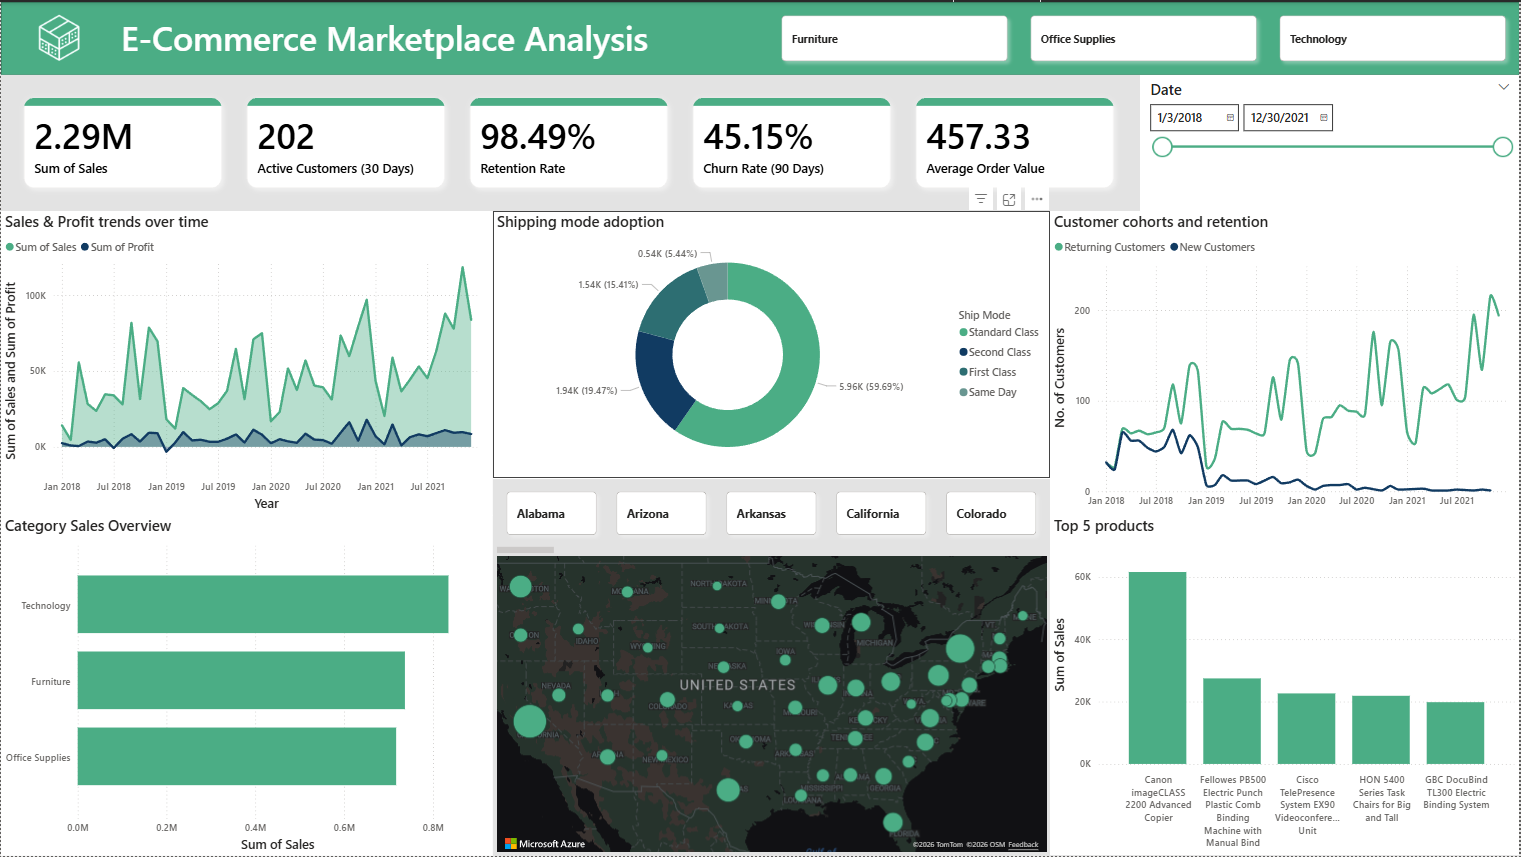

This screenshot's page, from the dashboard's own definition file:
{"tool":"powerbi","page":{"name":"RawMart Analysis","canvas":[1920,1080],"ordinal":0},"visuals":[{"type":"shape","box":[0,0,1920.6,92.5],"z":0},{"type":"image","box":[0,0,146.9,92.5],"z":1000},{"type":"textbox","box":[146.9,10.9,700.5,69.4],"z":2000},{"type":"cardVisual","fields":{"Data":["Sum(sales_clean.Sales)","sales_clean.Active Customers (30 Days)","sales_clean.Retention Rate","sales_clean.Churn Rate","sales_clean.Average Order Value"]},"box":[0,91.9,1440,172.2],"z":3000},{"type":"areaChart","title":"Sales & Profit trends over time","fields":{"Category":["sales_clean.Order Date.Variation.Date Hierarchy.Year","sales_clean.Order Date.Variation.Date Hierarchy.Quarter","sales_clean.Order Date.Variation.Date Hierarchy.Month"],"Y":["Sum(sales_clean.Sales)","Sum(sales_clean.Profit)"]},"box":[0,263.9,621.6,384.9],"z":4000},{"type":"barChart","title":"Category Sales Overview","fields":{"Category":["sales_clean.Category","sales_clean.Sub-Category"],"Y":["Sum(sales_clean.Sales)"]},"box":[0,648.8,621.6,431.2],"z":5000},{"type":"columnChart","title":"Top 5 products","fields":{"Category":["sales_clean.Product Name"],"Y":["Sum(sales_clean.Sales)"]},"box":[1326.2,648.8,594.4,429.8],"z":7000},{"type":"lineChart","title":"Customer cohorts and retention","fields":{"Category":["sales_clean.Order Date.Variation.Date Hierarchy.Year","sales_clean.Order Date.Variation.Date Hierarchy.Quarter","sales_clean.Order Date.Variation.Date Hierarchy.Month"],"Y":["sales_clean.Returning Customers","sales_clean.New Customers"]},"box":[1326.2,263.9,594.4,384.9],"z":8000},{"type":"advancedSlicerVisual","fields":{"Values":["sales_clean.Category"]},"box":[969.8,0,950.8,92.5],"z":9000},{"type":"slicer","fields":{"Values":["sales_clean.Order Date"]},"box":[1440.5,92.5,480.2,171.4],"z":10000},{"type":"azureMap","fields":{"Size":["Sum(sales_clean.Sales)"],"Category":["sales_clean.State"]},"box":[621.6,695.1,704.6,384.9],"z":11000},{"type":"advancedSlicerVisual","fields":{"Values":["sales_clean.State"]},"box":[621.6,602.6,704.6,102],"z":12000},{"type":"donutChart","title":"Shipping mode adoption","fields":{"Category":["sales_clean.Ship Mode"],"Y":["CountNonNull(sales_clean.Order ID)"]},"box":[621.6,263.9,704.6,338.7],"z":12001}]}

Visuals, with their boxes in screenshot pixels (x1, y1, x2, y2), scaled from the page's 1920x1080 canvas onto the 1521x857 screenshot:
shape: 0:0:1520:73
image: 0:0:116:73
textbox: 116:9:671:64
cardVisual - Sum(sales_clean.Sales) x sales_clean.Active Customers (30 Days): 0:73:1141:210
"Sales & Profit trends over time" areaChart: 0:209:492:515
"Category Sales Overview" barChart: 0:515:492:856
"Top 5 products" columnChart: 1051:515:1520:856
"Customer cohorts and retention" lineChart: 1051:209:1520:515
advancedSlicerVisual - sales_clean.Category: 768:0:1520:73
slicer - sales_clean.Order Date: 1141:73:1520:209
azureMap - Sum(sales_clean.Sales) x sales_clean.State: 492:552:1051:856
advancedSlicerVisual - sales_clean.State: 492:478:1051:559
"Shipping mode adoption" donutChart: 492:209:1051:478
